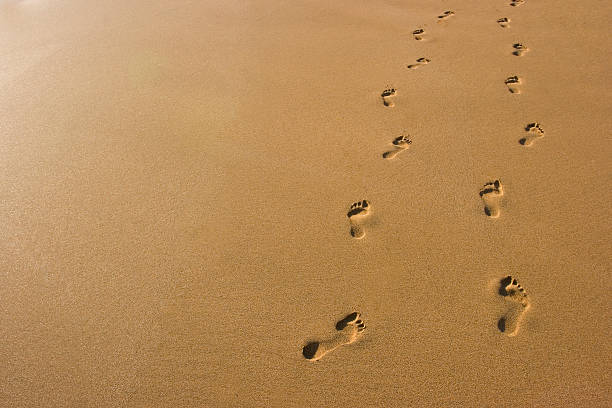human_footprint: (302, 312, 365, 360), (498, 275, 529, 335), (347, 200, 371, 239), (479, 179, 503, 217), (382, 135, 411, 158), (519, 122, 543, 145), (504, 75, 520, 93), (381, 87, 396, 106), (407, 57, 430, 68), (512, 43, 528, 55), (437, 10, 454, 20), (412, 28, 425, 41), (497, 17, 510, 27), (510, 0, 524, 6)
